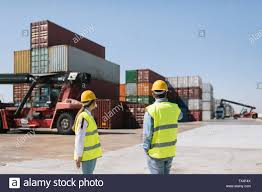helmet: (78, 89, 98, 101), (152, 81, 168, 91)
vest: (143, 105, 185, 157), (76, 114, 104, 159)
